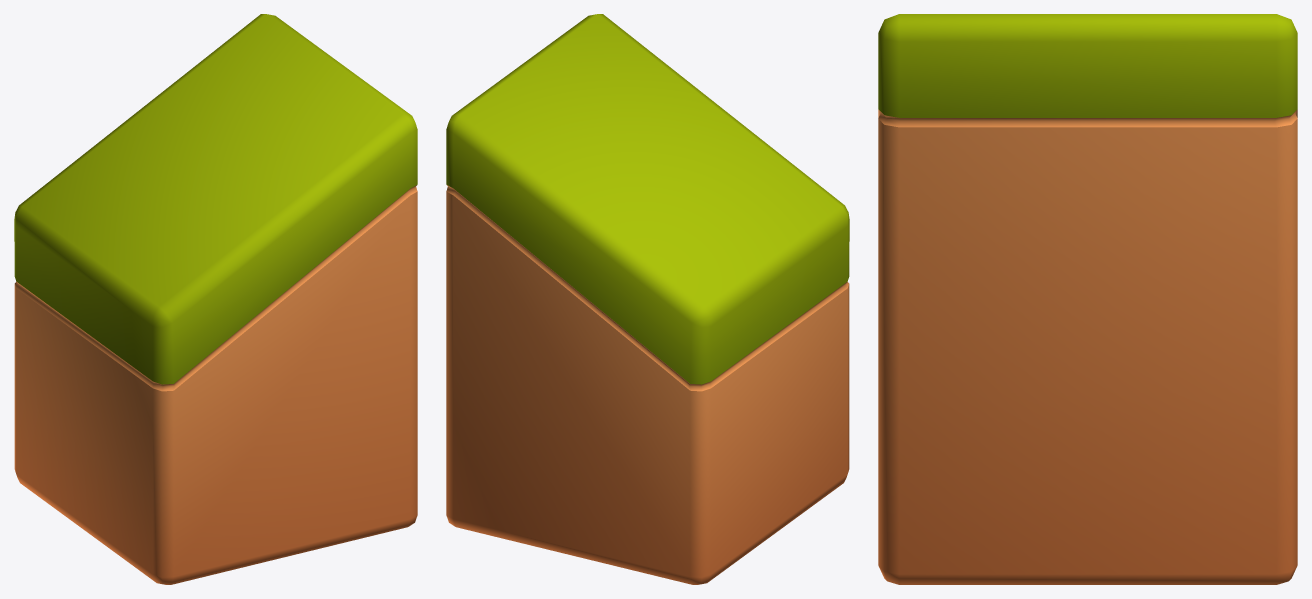
File: 3D_Tile_Ground_01x1_5.fbx
3 renders of one model, left to right at view 1: azimuth 30°, elevation 25°; view 2: azimuth 150°, elevation 25°; view 3: azimuth 270°, elevation 25°, orthographic. The views are drawn at different scales.
Visible parts, largest first — view 1: 3D_Tile_Ground_01x1.5; view 2: 3D_Tile_Ground_01x1.5; view 3: 3D_Tile_Ground_01x1.5.
Part boxes in pixels (box(x1,y1,x2,y2)): 3D_Tile_Ground_01x1.5: box(14, 14, 417, 584); 3D_Tile_Ground_01x1.5: box(446, 14, 849, 584); 3D_Tile_Ground_01x1.5: box(878, 14, 1297, 584).
Size of the model in its own units: 200 by 300 by 200.
